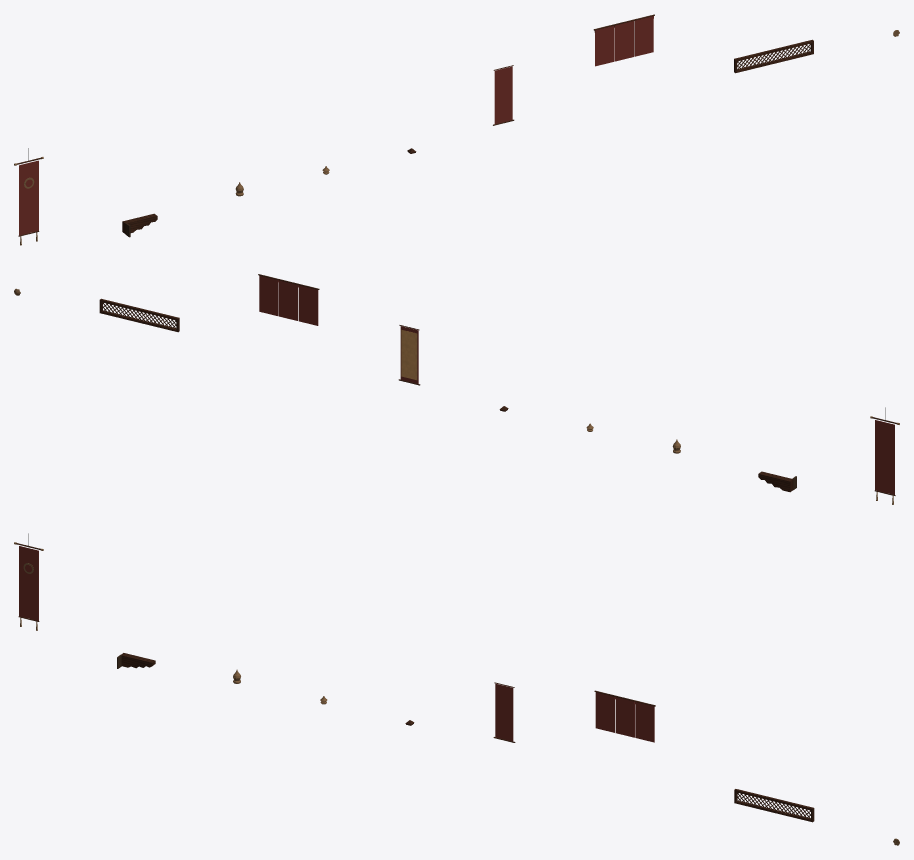
Rendered from decorative_elements.glb.
3 renders of one model, top to bottom at view 1: azimuth 30°, elevation 25°; view 2: azimuth 150°, elevation 25°; view 3: azimuth 330°, elevation 25°, orthographic.
Visible parts, largest first — view 1: IC18_Noren_Curtain__Mesh, IC18_Banner_Hanging__Mesh, IC18_Trim_Carved_Lattice__Mesh, IC18_Hanging_Scroll__Mesh; view 2: IC18_Noren_Curtain__Mesh, IC18_Banner_Hanging__Mesh, IC18_Trim_Carved_Lattice__Mesh, IC18_Hanging_Scroll__Mesh; view 3: IC18_Noren_Curtain__Mesh, IC18_Banner_Hanging__Mesh, IC18_Trim_Carved_Lattice__Mesh, IC18_Hanging_Scroll__Mesh.
Boxes of the visible parts, <box> form: IC18_Noren_Curtain__Mesh: <box>593,14,654,66</box>; IC18_Banner_Hanging__Mesh: <box>14,148,43,245</box>; IC18_Trim_Carved_Lattice__Mesh: <box>734,39,813,73</box>; IC18_Hanging_Scroll__Mesh: <box>493,65,514,125</box>; IC18_Noren_Curtain__Mesh: <box>258,274,319,325</box>; IC18_Banner_Hanging__Mesh: <box>870,407,899,504</box>; IC18_Trim_Carved_Lattice__Mesh: <box>99,298,179,332</box>; IC18_Hanging_Scroll__Mesh: <box>398,325,420,385</box>; IC18_Noren_Curtain__Mesh: <box>594,690,655,742</box>; IC18_Banner_Hanging__Mesh: <box>14,533,43,630</box>; IC18_Trim_Carved_Lattice__Mesh: <box>734,789,814,822</box>; IC18_Hanging_Scroll__Mesh: <box>493,682,515,742</box>.
Bounding box in the file's own units: 27.74 × 3.23 × 0.3701.
Materials: 6 (3 with a texture image).
